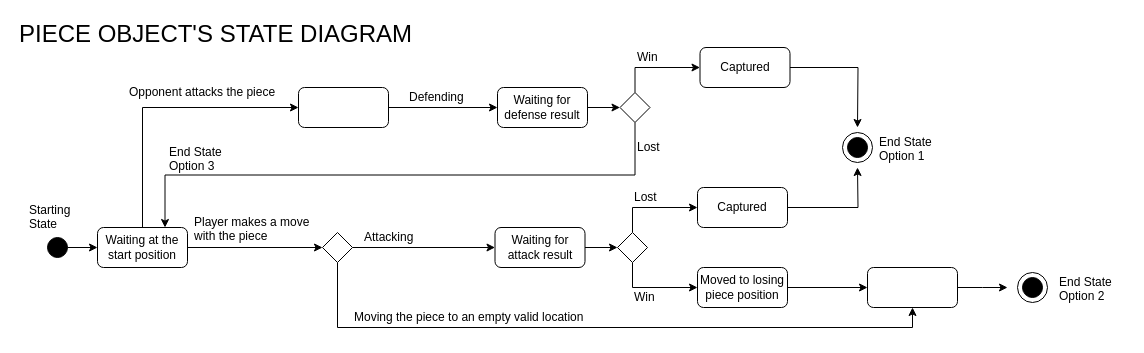
Some shapes in this 1144 by 353 pixel diagram are drawn without their labels. The shapes that lost their labels are listed below. From the top down, each one's centre as x and y in pixels, then its label:
(343,107): Attacked by opponent
(912,287): At End Position
